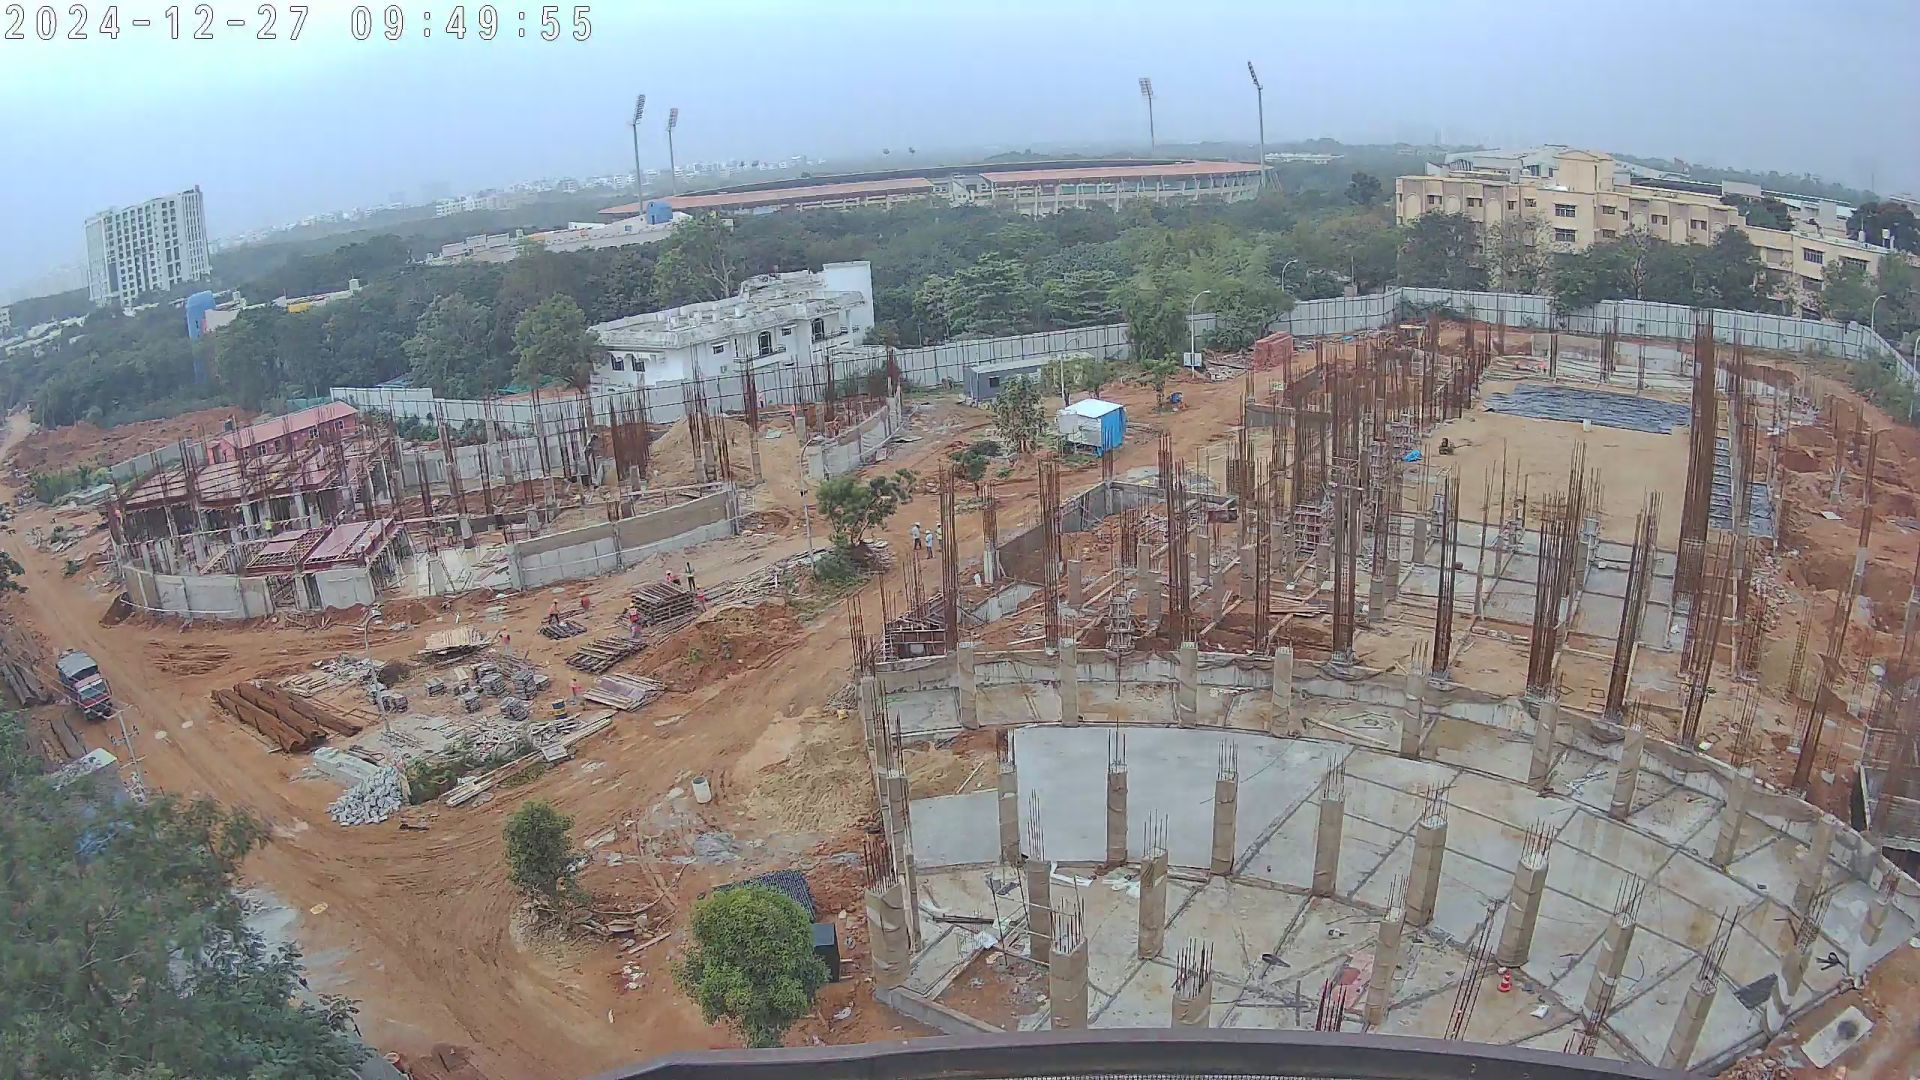bulldozer: (1394, 318, 1447, 358)
truck: (56, 650, 111, 727)
worker: (661, 558, 697, 593), (561, 678, 587, 711), (624, 604, 640, 638), (500, 627, 516, 658), (543, 596, 557, 627), (934, 523, 948, 553), (911, 520, 922, 554), (924, 529, 935, 560), (444, 525, 458, 547), (755, 388, 768, 411), (368, 530, 379, 551), (788, 404, 798, 425), (728, 430, 736, 448)
